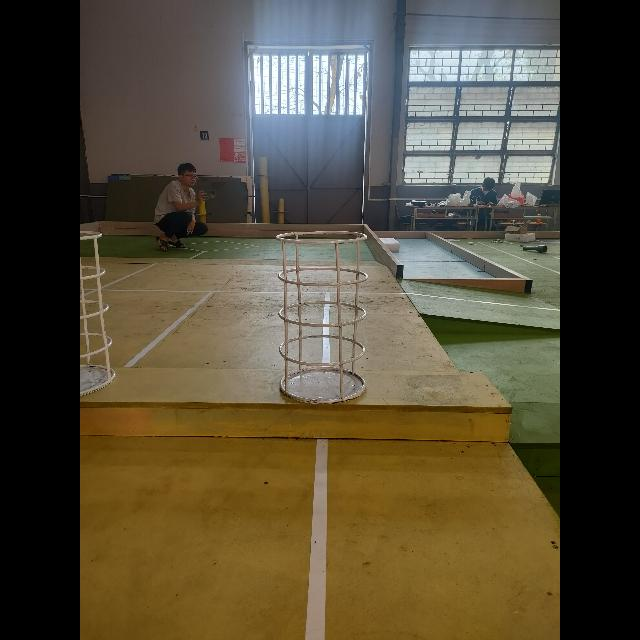S: (276, 230, 372, 406), (80, 228, 116, 398)
